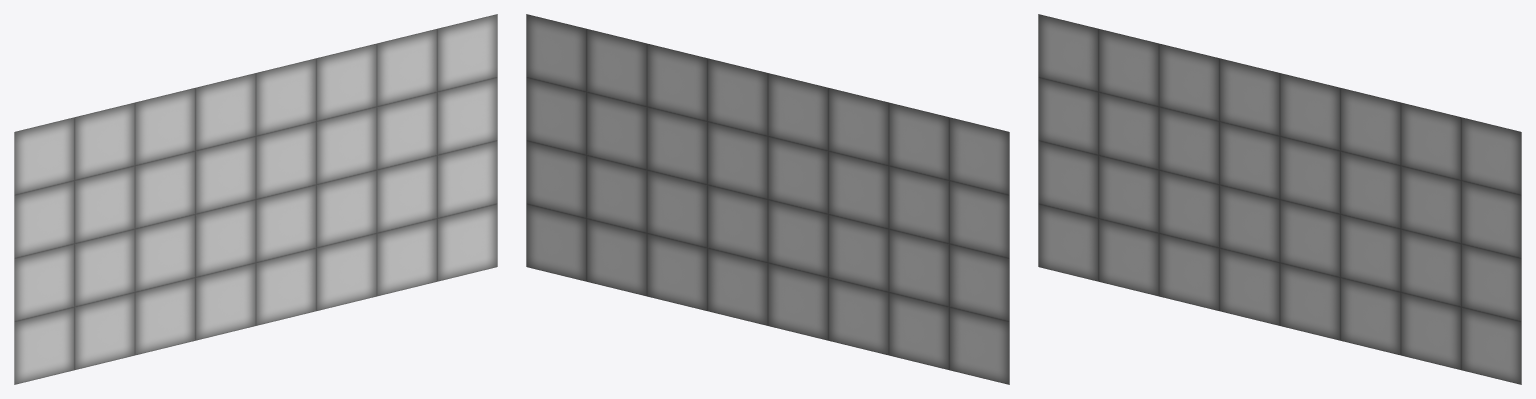
Rendered from ENV_wall_01.fbx.
3 views of the same model, side by side, from view 1: azimuth 30°, elevation 25°; view 2: azimuth 150°, elevation 25°; view 3: azimuth 330°, elevation 25° (orthographic).
Visible parts, largest first — view 1: cube10, cube39, cube44, cube55, cube16, cube38, cube41, cube45, cube48, cube51, cube14, cube11 (+20 smaller); view 2: cube10, cube39, cube44, cube55, cube16, cube38, cube41, cube45, cube48, cube51, cube14, cube11 (+20 smaller); view 3: cube14, cube38, cube48, cube54, cube10, cube16, cube41, cube45, cube51, cube55, cube11, cube12 (+20 smaller).
Boxes of the visible parts, bbox=[...] form: cube10: bbox=[14, 307, 74, 384]; cube39: bbox=[437, 140, 497, 218]; cube44: bbox=[14, 180, 74, 258]; cube55: bbox=[437, 14, 497, 91]; cube16: bbox=[135, 214, 195, 291]; cube38: bbox=[437, 204, 497, 281]; cube41: bbox=[316, 170, 376, 247]; cube45: bbox=[135, 151, 195, 228]; cube48: bbox=[14, 117, 74, 194]; cube51: bbox=[316, 107, 376, 184]; cube14: bbox=[14, 244, 74, 321]; cube11: bbox=[135, 277, 195, 355]; cube10: bbox=[949, 307, 1009, 384]; cube39: bbox=[526, 140, 586, 218]; cube44: bbox=[949, 180, 1009, 258]; cube55: bbox=[526, 14, 586, 91]; cube16: bbox=[828, 214, 888, 291]; cube38: bbox=[526, 204, 586, 281]; cube41: bbox=[647, 170, 707, 247]; cube45: bbox=[828, 151, 888, 228]; cube48: bbox=[949, 117, 1009, 194]; cube51: bbox=[647, 107, 707, 184]; cube14: bbox=[949, 244, 1009, 321]; cube11: bbox=[828, 277, 888, 355]; cube14: bbox=[1038, 140, 1098, 218]; cube38: bbox=[1461, 307, 1521, 384]; cube48: bbox=[1038, 14, 1098, 91]; cube54: bbox=[1461, 180, 1521, 258]; cube10: bbox=[1038, 204, 1098, 281]; cube16: bbox=[1159, 170, 1219, 247]; cube41: bbox=[1340, 214, 1400, 291]; cube45: bbox=[1159, 107, 1219, 184]; cube51: bbox=[1340, 151, 1400, 228]; cube55: bbox=[1461, 117, 1521, 194]; cube11: bbox=[1159, 233, 1219, 310]; cube12: bbox=[1219, 248, 1279, 325].
Size of the model in its own units: 6.4 by 3.2 by 0.
